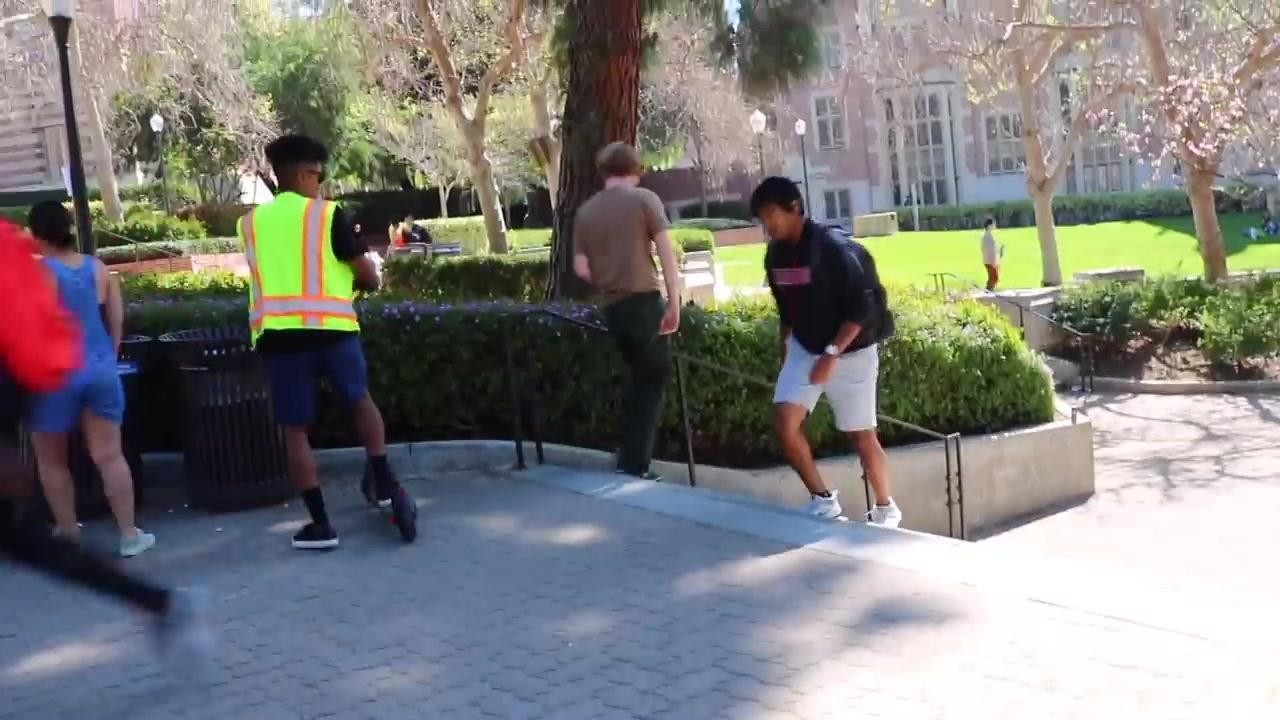vest: (234, 192, 361, 339)
